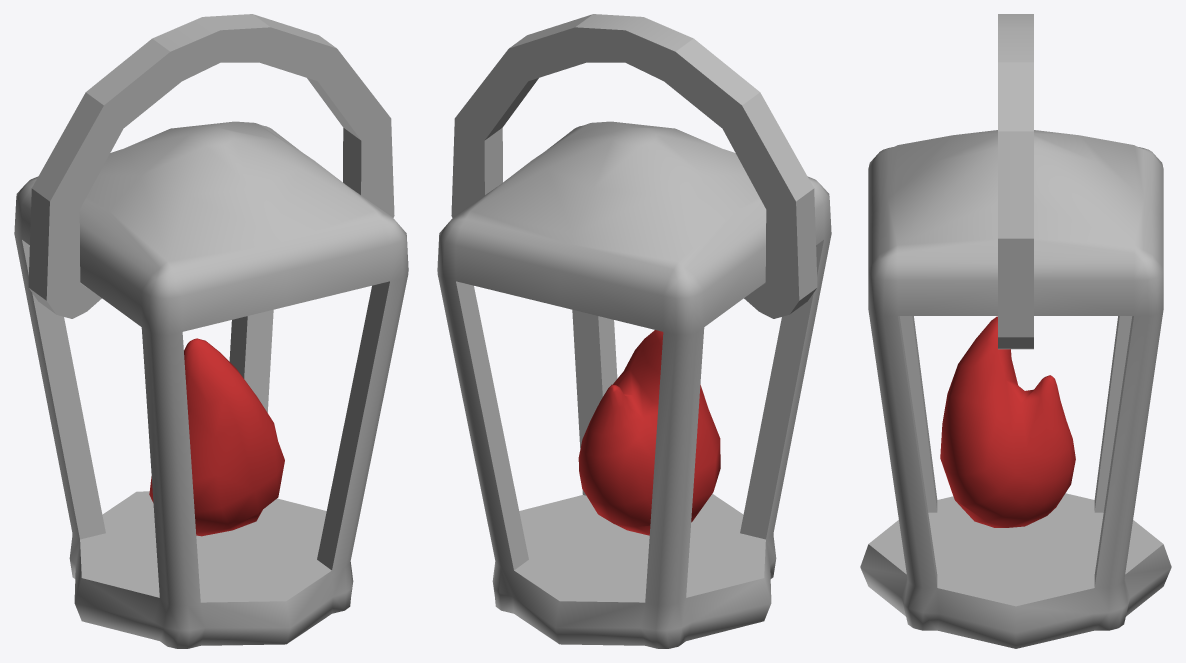
Rendered from Lantern_v2_001.fbx.
The picture shows the model from 3 angles, left to right: view 1: azimuth 30°, elevation 25°; view 2: azimuth 150°, elevation 25°; view 3: azimuth 270°, elevation 25°; orthographic projection.
Parts seen in each view (by area): view 1: Lantern_v2_001; view 2: Lantern_v2_001; view 3: Lantern_v2_001.
Boxes of the visible parts, box(x1,y1,x2,y2) form: Lantern_v2_001: box(14, 14, 408, 648); Lantern_v2_001: box(437, 14, 831, 648); Lantern_v2_001: box(860, 14, 1171, 648).
Bounding box in the file's own units: 36.9 × 57.38 × 29.06.
